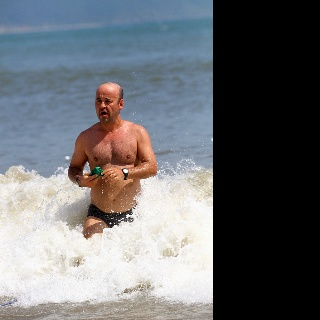without_mask: (95, 90, 123, 122)
